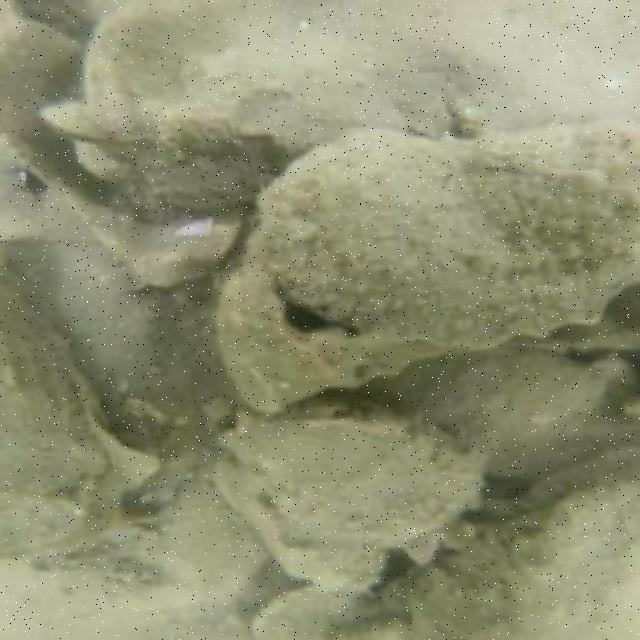Oyster-Closed: (246, 126, 638, 349), (36, 4, 420, 216), (0, 18, 245, 288), (226, 411, 483, 571), (392, 477, 636, 638), (26, 478, 247, 615), (6, 265, 101, 559)
Oyster-Open: (212, 260, 481, 418)
